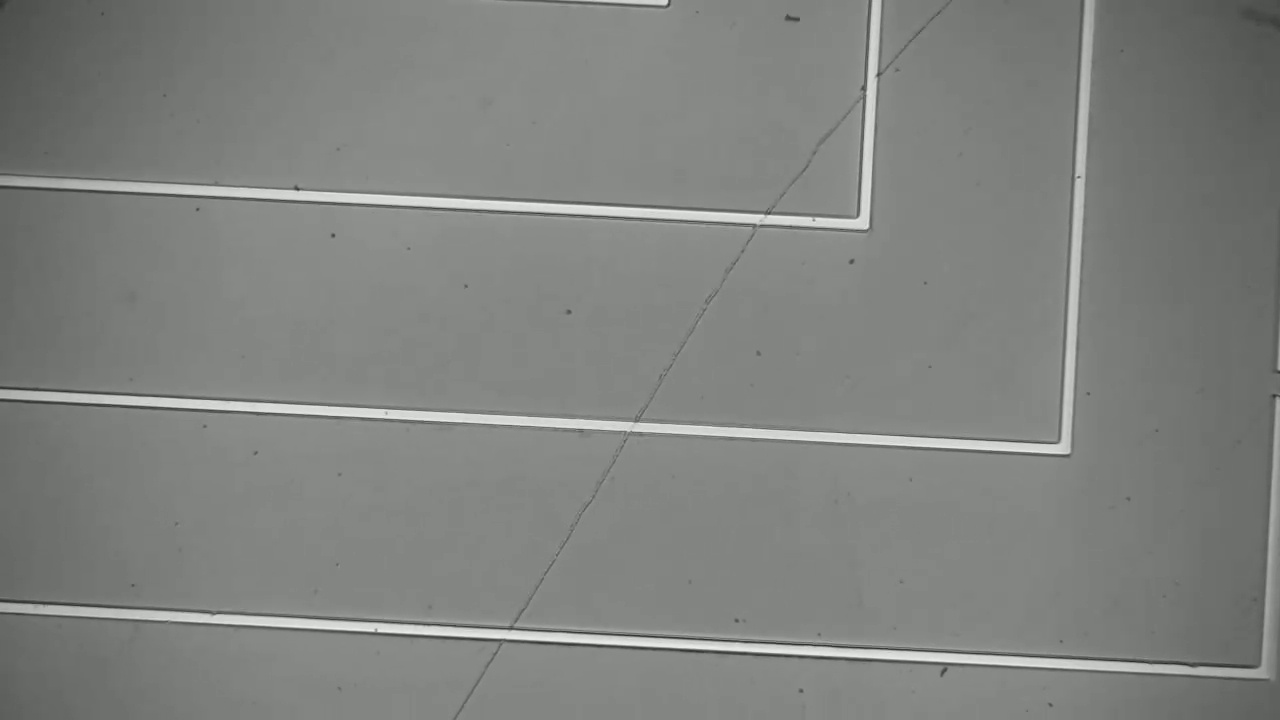open: (1262, 358, 1279, 407)
scratch: (443, 2, 955, 720)
